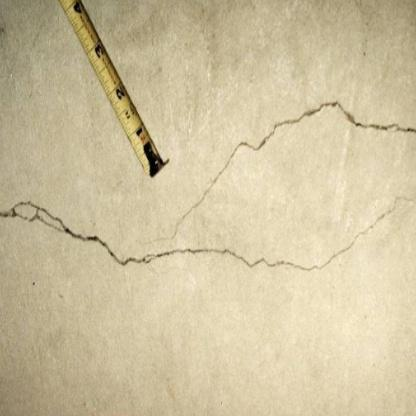Cracks: (0, 200, 386, 273), (213, 99, 416, 185), (179, 189, 211, 223)
